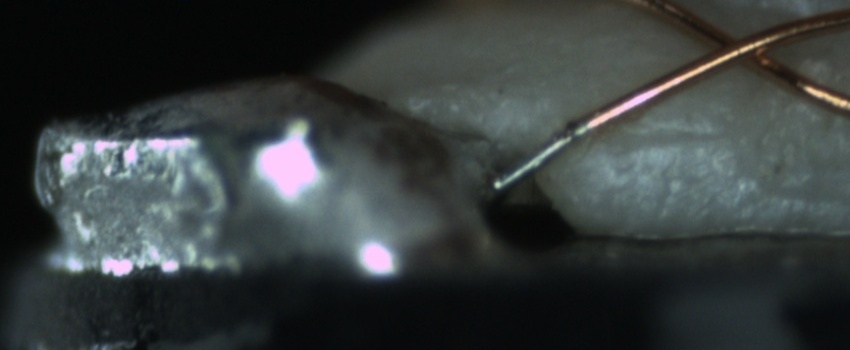CL: (689, 18, 792, 78)
DL: (600, 106, 744, 172)
TS: (493, 121, 590, 192)
